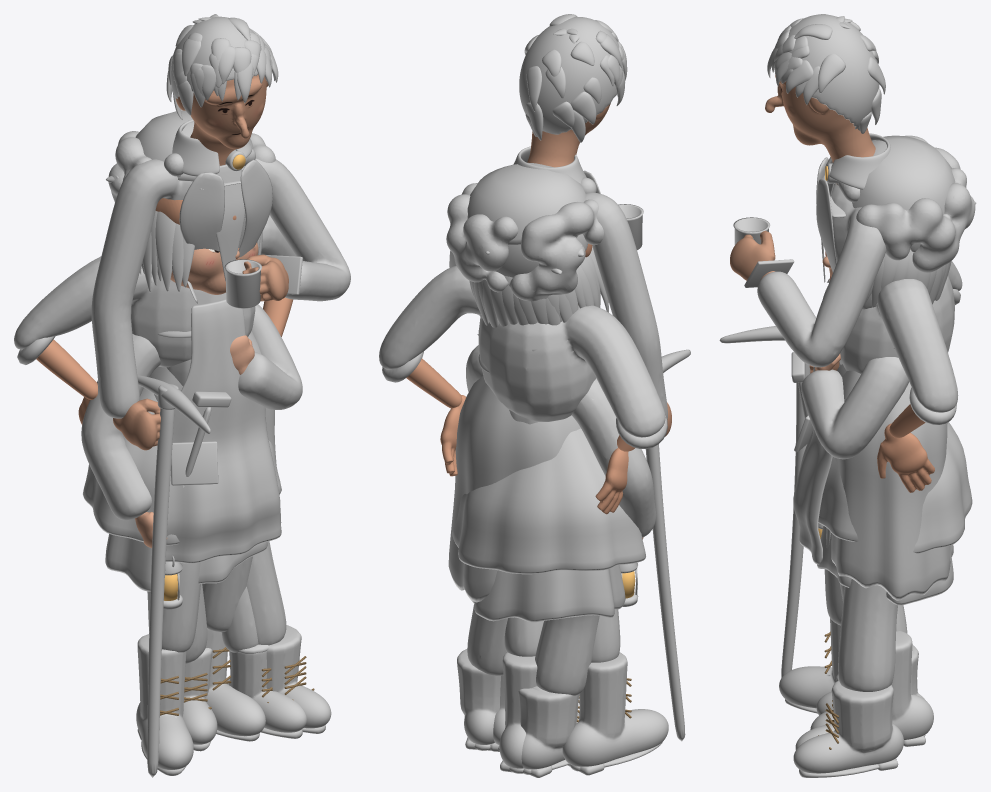
File: Workers.fbx
The picture shows the model from 3 angles, left to right: view 1: azimuth 30°, elevation 25°; view 2: azimuth 150°, elevation 25°; view 3: azimuth 270°, elevation 25°; orthographic projection.
Parts seen in each view (by area): view 1: Worker_Round_Apron, Worker_Long_Top, Worker_Small_Top, Worker_Round_Top, Worker_Long_Hair, Worker_Long_PickHandle, Worker_Long_Trousers, Worker_Long_Boot0, Worker_Long_Skin, Worker_Round_Trousers, Worker_Small_Boot1, Worker_Long_Boot1 (+24 smaller); view 2: Worker_Round_Top, Worker_Round_Skirt, Worker_Round_Hair, Worker_Long_Hair, Worker_Long_Skirt, Worker_Long_Boot0, Worker_Small_Skirt, Worker_Long_Top, Worker_Round_Trousers, Worker_Round_Cap, Worker_Small_Top, Worker_Small_Hair (+12 smaller); view 3: Worker_Long_Skirt, Worker_Round_Top, Worker_Long_Top, Worker_Long_Hair, Worker_Small_Top, Worker_Round_Hair, Worker_Round_Boot1, Worker_Round_Trousers, Worker_Round_Skirt, Worker_Round_Cap, Worker_Long_Skin, Worker_Round_Apron (+17 smaller).
Boxes of the visible parts, <box> form: Worker_Round_Apron: <box>165,299,281,563</box>; Worker_Long_Top: <box>91,158,350,418</box>; Worker_Small_Top: <box>81,304,302,520</box>; Worker_Round_Top: <box>14,215,296,367</box>; Worker_Long_Hair: <box>166,14,278,119</box>; Worker_Long_PickHandle: <box>147,408,174,777</box>; Worker_Long_Trousers: <box>149,556,252,652</box>; Worker_Long_Boot0: <box>136,634,193,769</box>; Worker_Long_Skin: <box>176,74,268,165</box>; Worker_Round_Trousers: <box>147,541,286,663</box>; Worker_Small_Boot1: <box>226,651,306,732</box>; Worker_Long_Boot1: <box>205,628,265,736</box>; Worker_Round_Top: <box>379,265,665,437</box>; Worker_Round_Skirt: <box>452,428,645,574</box>; Worker_Round_Hair: <box>446,177,603,301</box>; Worker_Long_Hair: <box>519,14,627,142</box>; Worker_Long_Skirt: <box>448,376,580,602</box>; Worker_Long_Boot0: <box>562,652,668,766</box>; Worker_Small_Skirt: <box>470,565,625,622</box>; Worker_Long_Top: <box>449,192,667,419</box>; Worker_Round_Trousers: <box>467,604,599,695</box>; Worker_Round_Cap: <box>467,162,585,244</box>; Worker_Small_Top: <box>466,345,656,537</box>; Worker_Small_Hair: <box>469,246,608,327</box>; Worker_Long_Skirt: <box>826,370,950,600</box>; Worker_Round_Top: <box>839,261,962,412</box>; Worker_Long_Top: <box>757,183,886,367</box>; Worker_Long_Hair: <box>767,14,885,133</box>; Worker_Small_Top: <box>801,357,908,459</box>; Worker_Round_Hair: <box>838,135,976,272</box>; Worker_Round_Boot1: <box>793,680,903,773</box>; Worker_Round_Trousers: <box>838,579,907,691</box>; Worker_Round_Skirt: <box>818,422,972,553</box>; Worker_Round_Cap: <box>852,135,955,214</box>; Worker_Long_Skin: <box>765,74,875,184</box>; Worker_Round_Apron: <box>793,286,832,564</box>.
Bounding box in the file's own units: 0.7718 × 1.88 × 0.6109.
